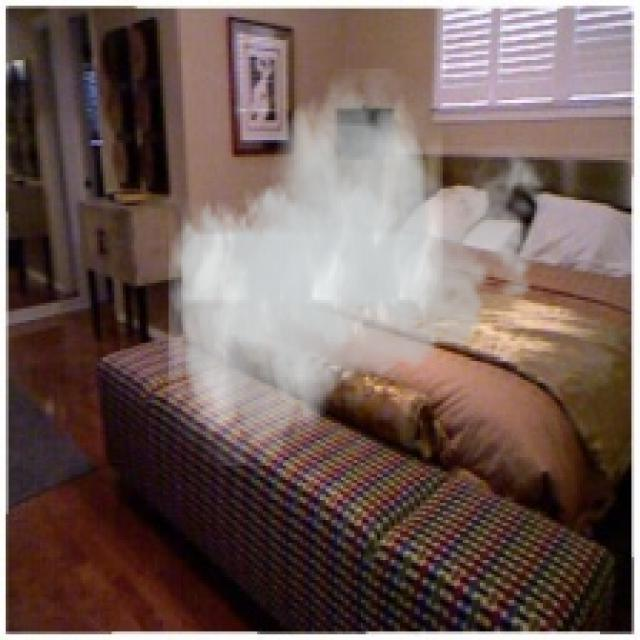Smoke: (168, 68, 558, 466)
